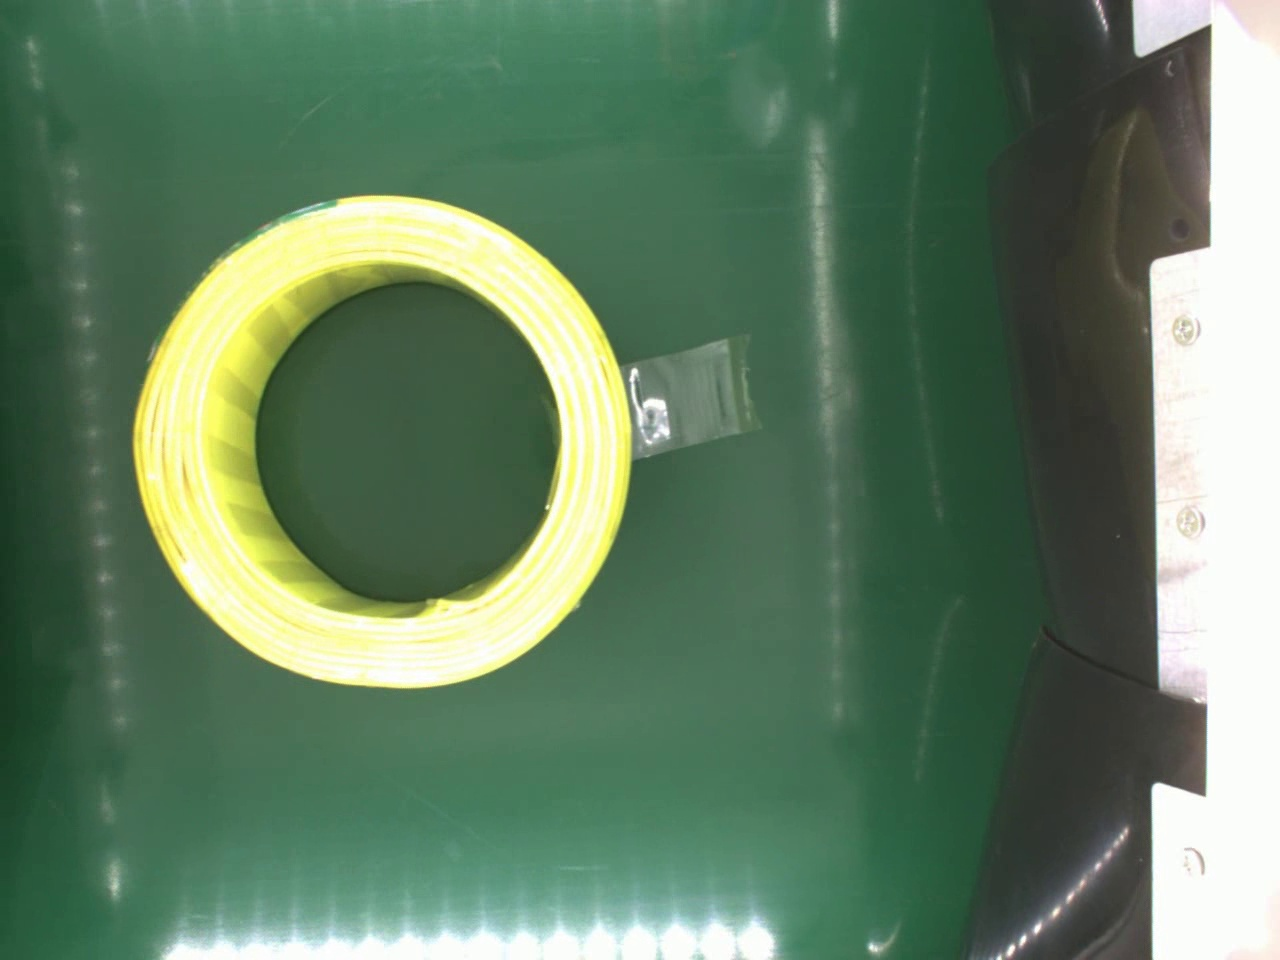yellow: (127, 187, 630, 699)
